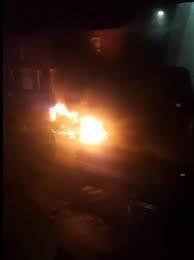fire: (38, 97, 118, 153)
